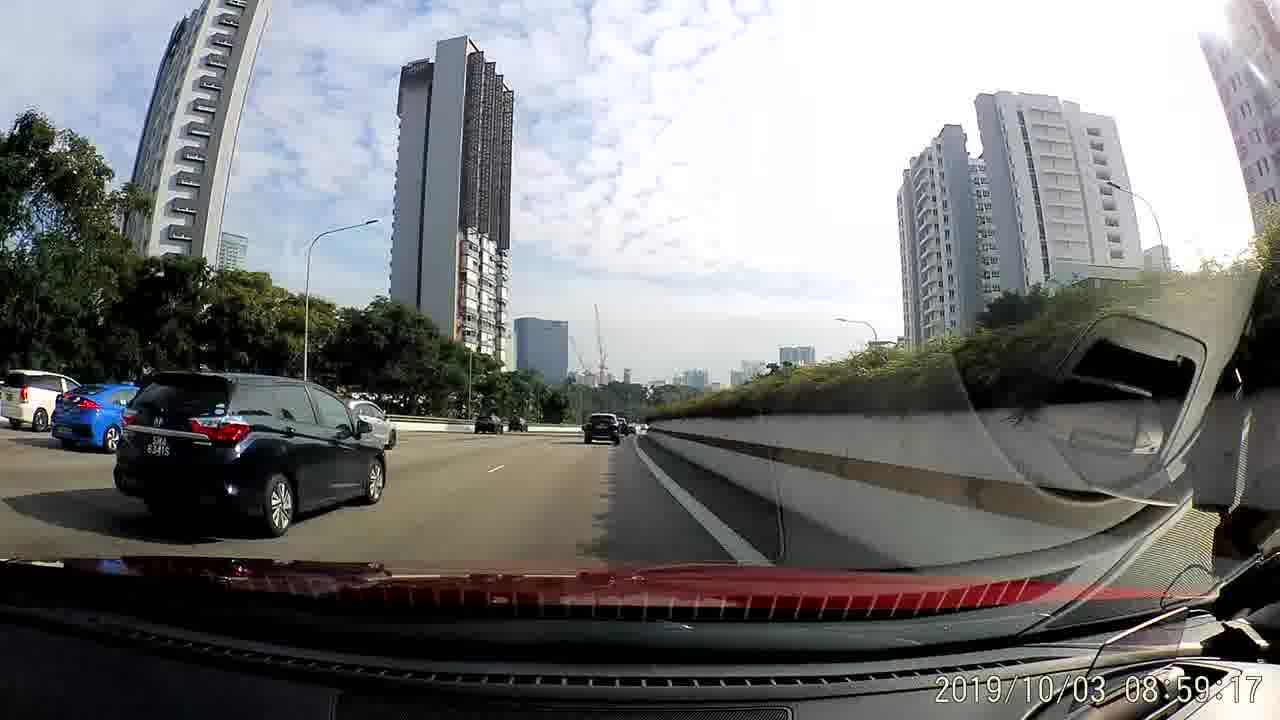car: (113, 362, 387, 538), (53, 374, 143, 452), (2, 367, 82, 430), (338, 395, 400, 452), (586, 412, 622, 448), (474, 413, 505, 435), (508, 414, 529, 430)
